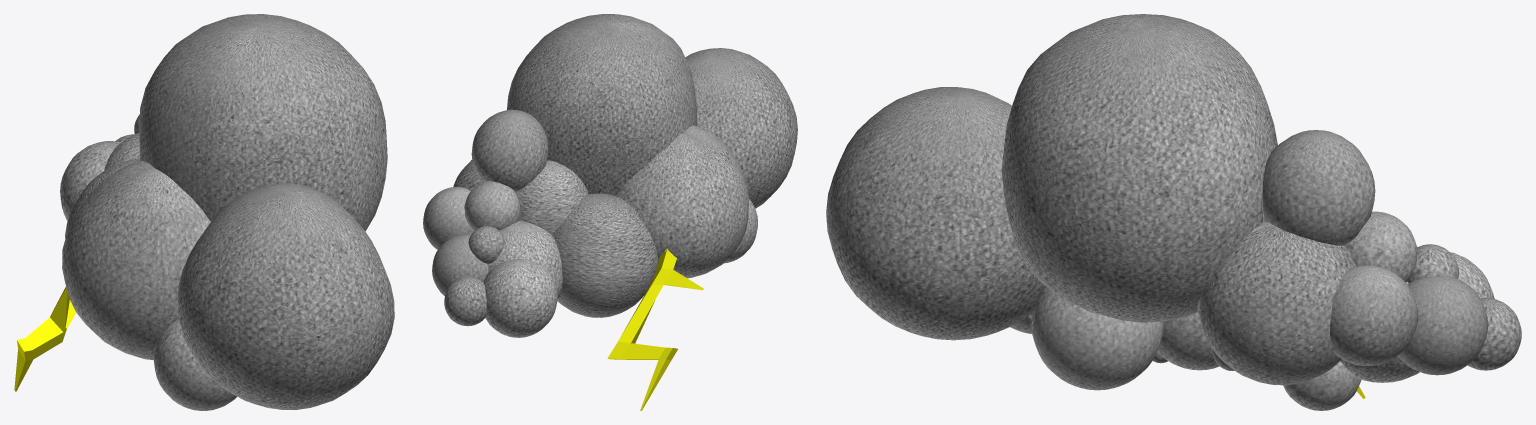
The model's file is Storm_Cloud.glb.
3 renders of one model, left to right at view 1: azimuth 30°, elevation 25°; view 2: azimuth 150°, elevation 25°; view 3: azimuth 270°, elevation 25°, orthographic. The views are drawn at different scales.
Parts seen in each view (by area): view 1: polySurface17, Lightening_Bolt:pCube1; view 2: polySurface17, Lightening_Bolt:pCube1; view 3: polySurface17.
Part boxes in pixels (left/top/right/bottom): polySurface17: left=60, top=14, right=394, bottom=410; Lightening_Bolt:pCube1: left=14, top=286, right=76, bottom=391; polySurface17: left=423, top=14, right=797, bottom=337; Lightening_Bolt:pCube1: left=607, top=248, right=703, bottom=410; polySurface17: left=826, top=14, right=1521, bottom=410.
Size of what is drawn, in the model's own units: 0.0812 by 0.0995 by 0.1395.
Materials: 2 (1 with a texture image).
